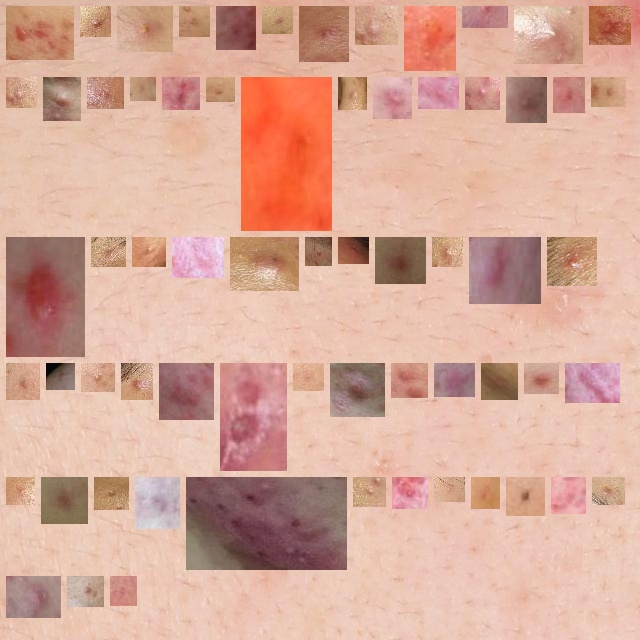papule: (194, 485, 339, 562), (249, 85, 324, 223), (14, 245, 77, 349), (228, 371, 279, 463), (477, 245, 533, 296), (522, 14, 575, 56), (238, 245, 291, 283), (14, 14, 66, 52), (412, 14, 448, 63), (167, 371, 206, 412), (338, 371, 377, 409), (307, 14, 341, 54), (125, 14, 165, 44), (555, 245, 589, 278), (383, 245, 418, 276), (143, 485, 172, 521), (14, 584, 53, 610), (49, 485, 80, 516), (573, 371, 612, 395), (180, 245, 216, 270), (514, 85, 539, 115), (224, 14, 248, 42), (363, 14, 390, 37), (51, 85, 73, 113), (597, 14, 623, 37), (381, 85, 404, 111), (514, 485, 537, 508), (442, 371, 467, 389), (489, 371, 510, 392), (426, 85, 451, 101), (399, 371, 420, 390), (559, 485, 578, 506), (14, 371, 32, 392), (170, 85, 192, 102), (102, 485, 121, 503), (95, 85, 116, 101), (129, 371, 145, 392), (473, 85, 492, 102), (561, 85, 577, 105), (400, 485, 420, 501), (75, 584, 96, 599), (532, 371, 551, 386), (599, 85, 618, 99), (99, 245, 118, 259), (140, 245, 158, 259), (361, 485, 378, 499), (89, 371, 107, 384), (88, 14, 103, 29), (187, 14, 202, 29), (14, 85, 29, 100), (346, 85, 359, 102), (440, 245, 455, 259), (479, 485, 492, 501), (600, 485, 617, 497), (270, 14, 285, 26), (301, 371, 316, 383), (346, 245, 361, 256), (14, 485, 27, 497), (118, 584, 129, 598), (313, 245, 324, 258), (54, 371, 67, 382), (442, 485, 457, 494), (214, 85, 227, 94), (138, 85, 148, 93)
